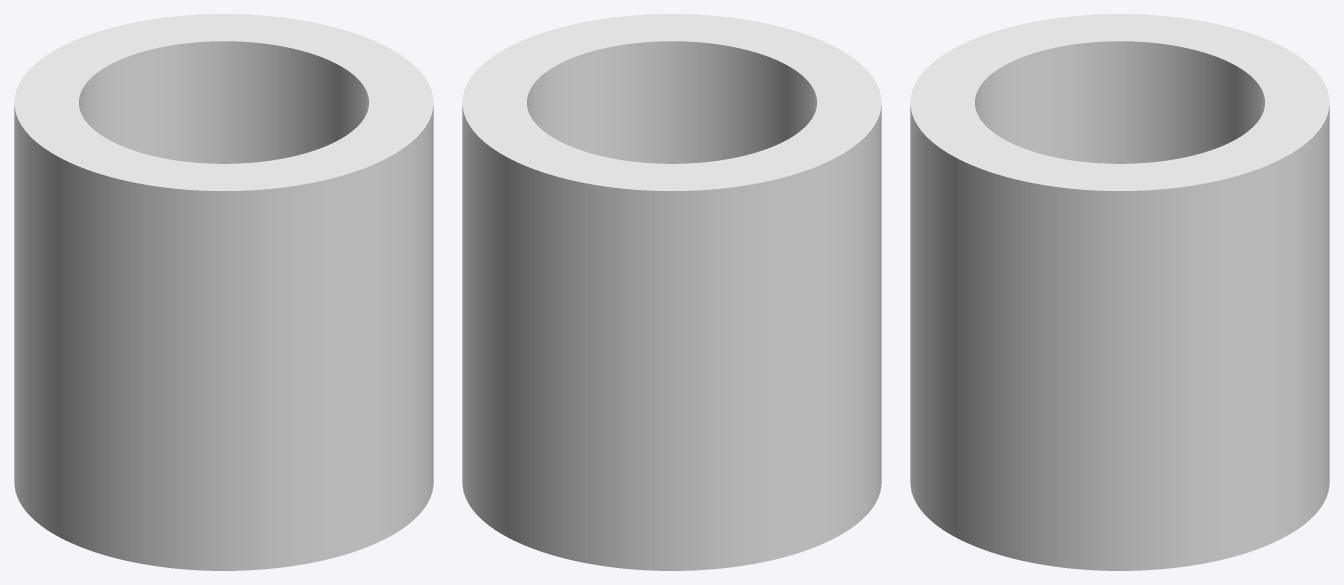
File: blood.OBJ
3 renders of one model, left to right at view 1: azimuth 30°, elevation 25°; view 2: azimuth 150°, elevation 25°; view 3: azimuth 270°, elevation 25°, orthographic.
Parts seen in each view (by area): view 1: ZBrushMesh3D; view 2: ZBrushMesh3D; view 3: ZBrushMesh3D.
Boxes of the visible parts, <box> form: ZBrushMesh3D: <box>14,14,433,570</box>; ZBrushMesh3D: <box>462,14,881,570</box>; ZBrushMesh3D: <box>910,14,1329,570</box>.
Size of the model in its own units: 2 by 2 by 2.
1 material, 1 textured.
